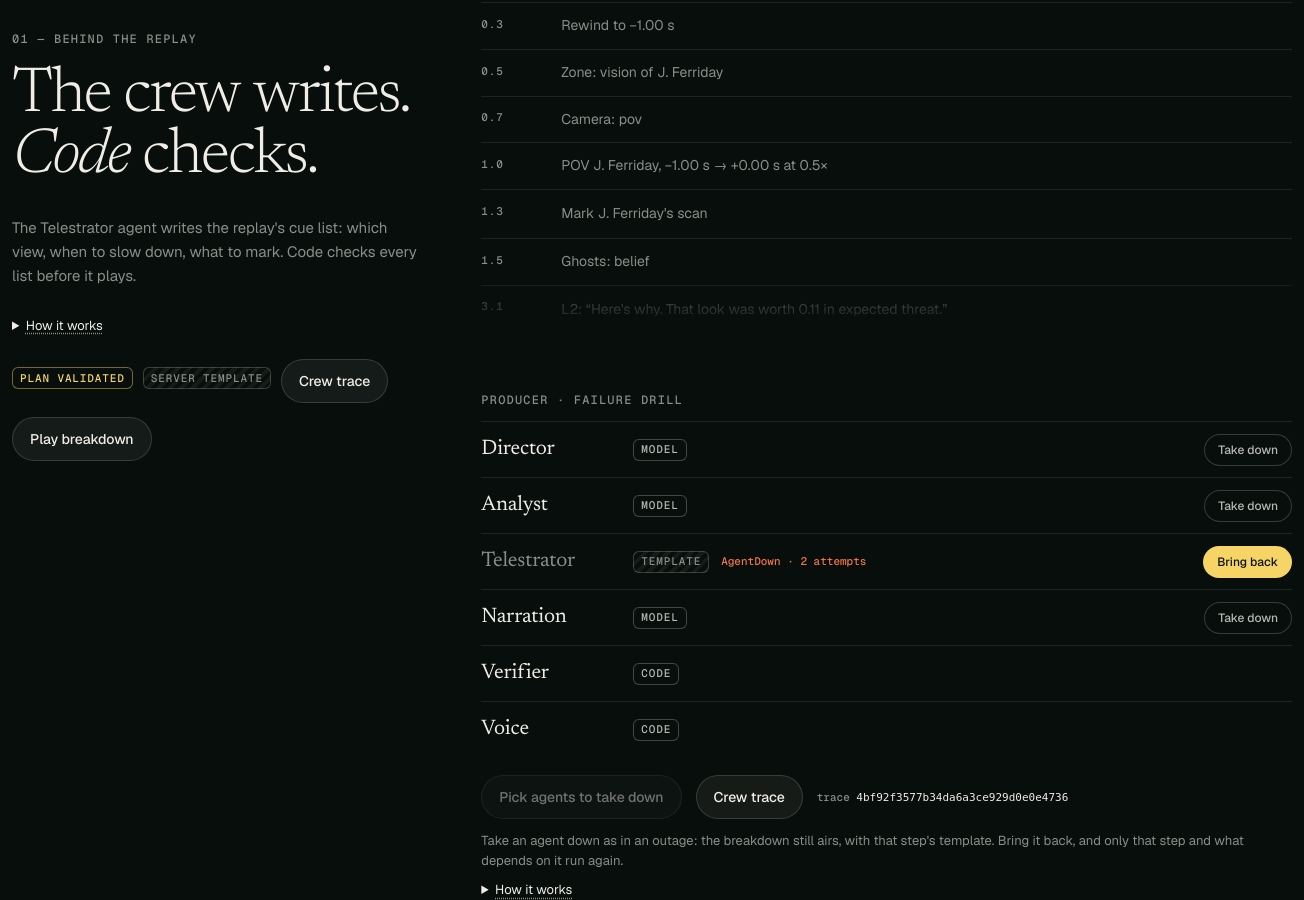
it: from the Producer desk and the breakdown › opens the crew trace of the drill on screen
The image size is (1304, 900).
(page scrolled)
Click the button with class "trace-open" in the row of "4bf92f3577b34da6a3ce929d0e0e4736": (749, 797) [696,775,803,819]
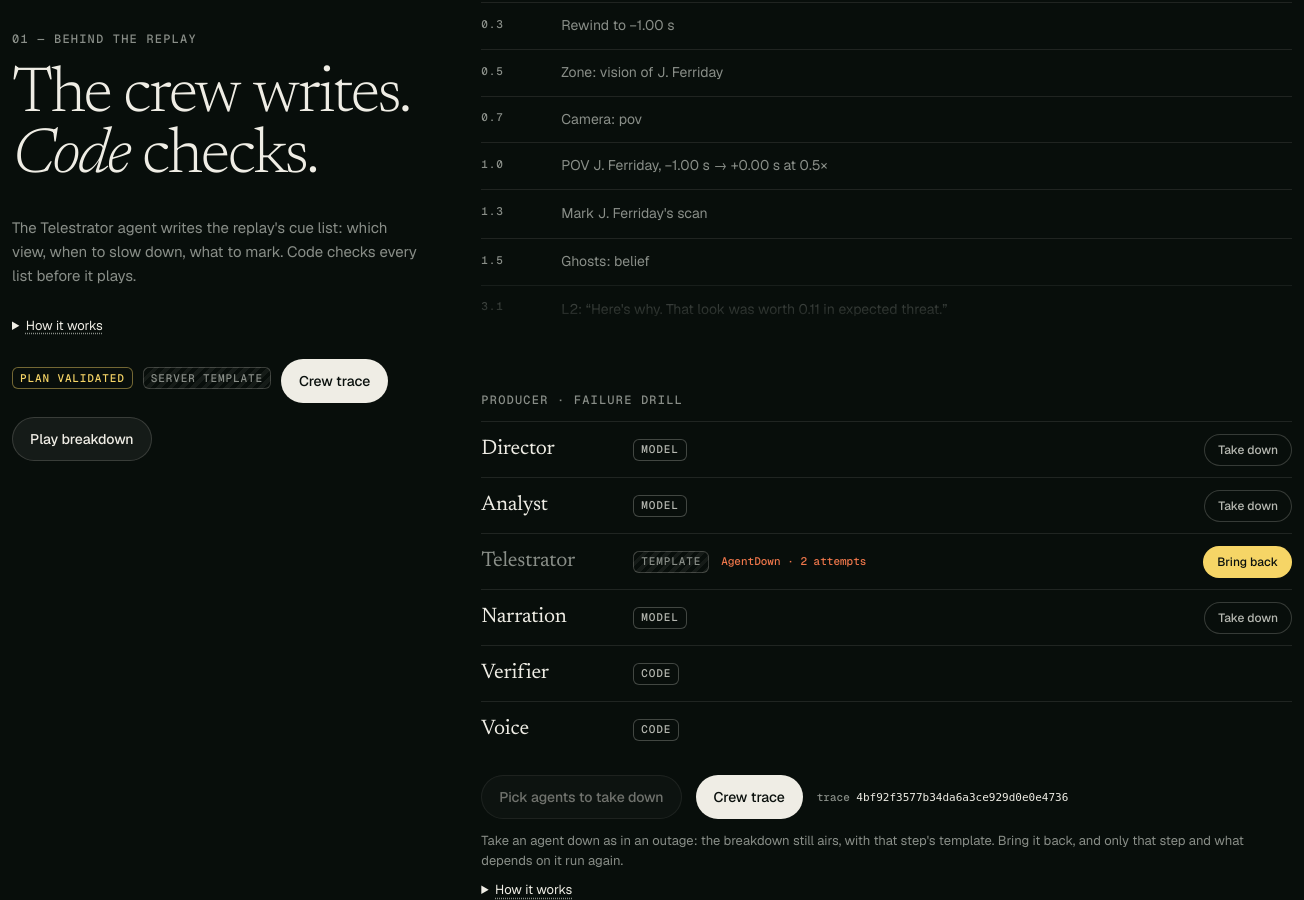
Expected: the button with class "trace-open" next to "Server template" is expanded, [281,360,388,404]
